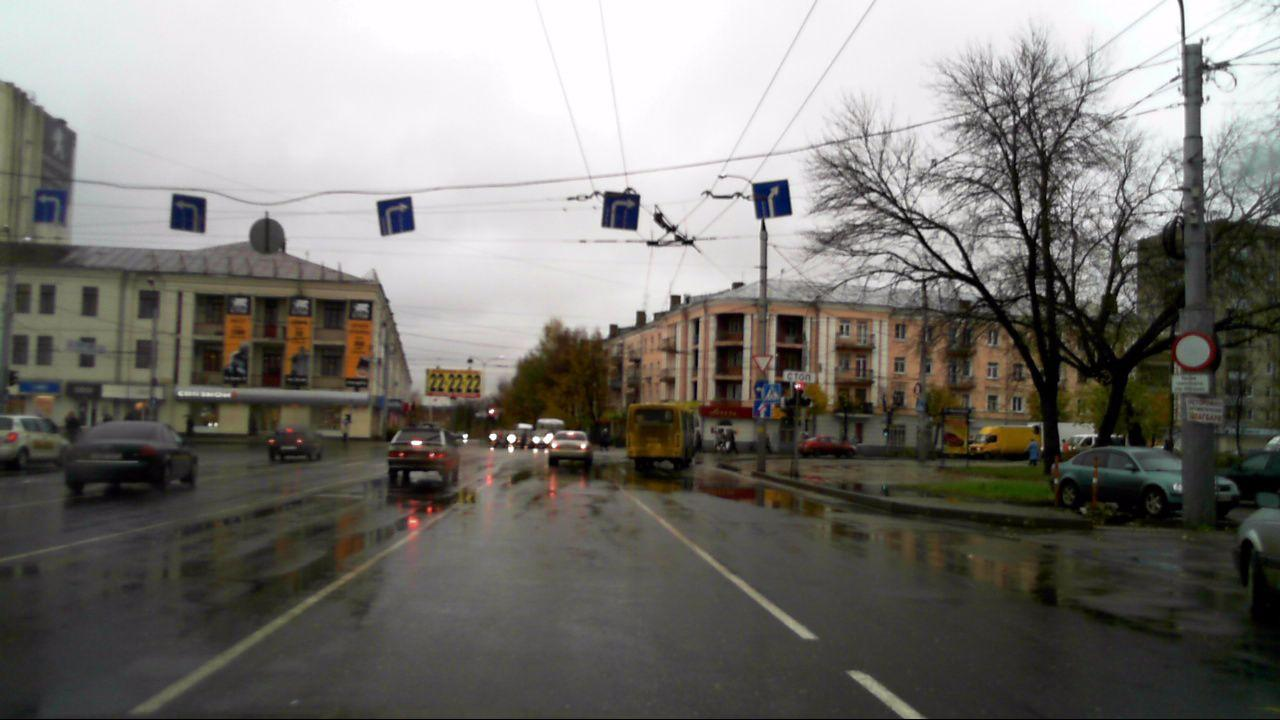2_4: (752, 353, 772, 373)
3_2: (1173, 330, 1213, 370)
4_1_6: (753, 379, 767, 397)
5_15_2: (749, 175, 793, 218), (374, 194, 420, 234), (600, 188, 639, 233), (171, 194, 208, 234), (31, 188, 68, 223)
5_19_1: (764, 383, 781, 404)
5_6: (754, 400, 770, 417)
6_16: (784, 368, 816, 384)
